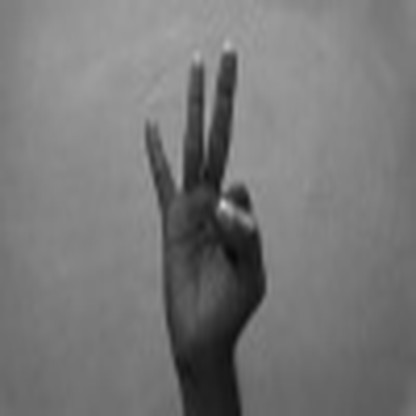f: (135, 36, 272, 361)
